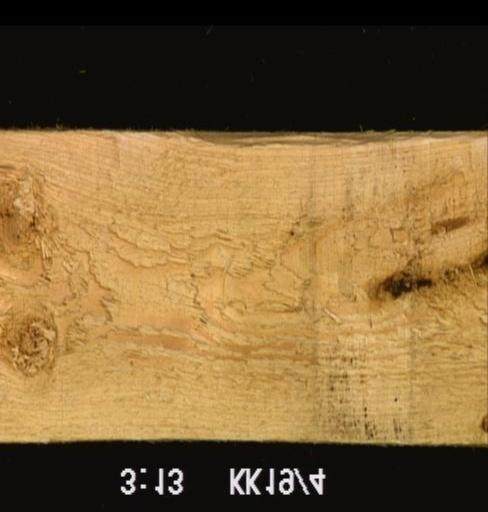dry_knot: (478, 411, 486, 434)
sound_knot: (0, 157, 69, 291), (0, 307, 59, 379)
wave: (148, 128, 486, 170)
